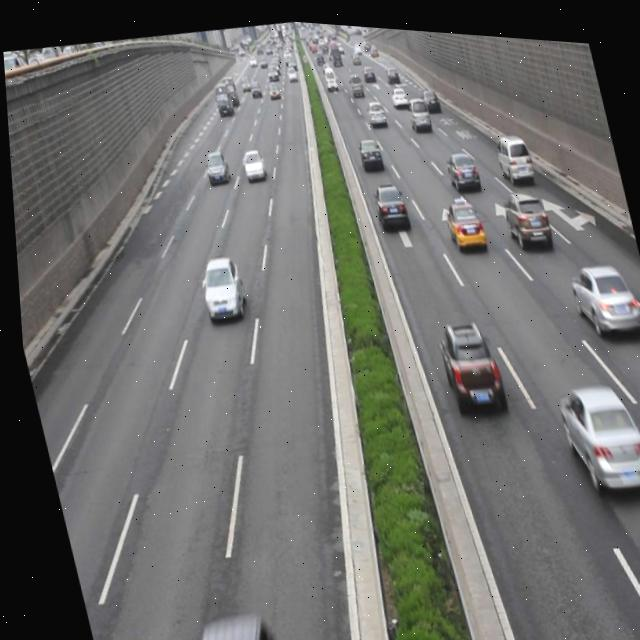car: (548, 366, 640, 492), (429, 308, 503, 415), (564, 247, 638, 333), (191, 249, 245, 320), (497, 178, 549, 243), (438, 187, 484, 248), (367, 173, 407, 226), (443, 140, 480, 187), (200, 145, 230, 184), (355, 129, 383, 166), (236, 143, 264, 178)
truck: (490, 123, 532, 176)
